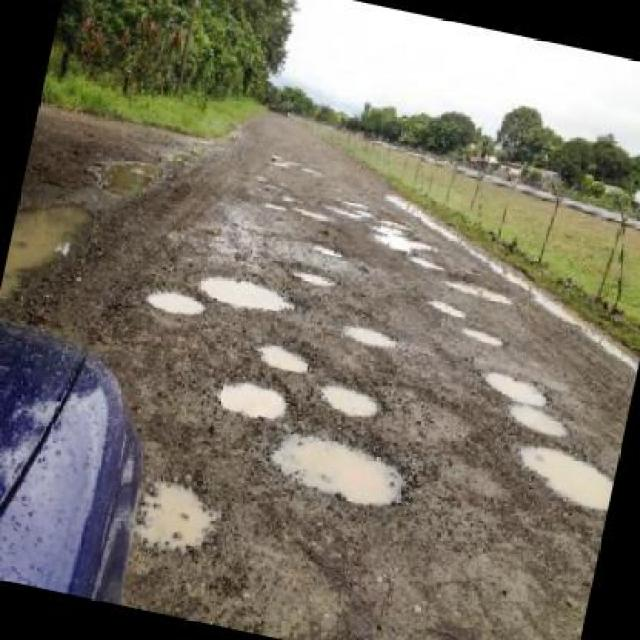pothole1: (264, 418, 418, 514), (128, 470, 225, 562), (508, 437, 617, 514), (197, 268, 303, 314), (214, 369, 294, 425), (478, 364, 554, 410), (316, 375, 382, 419), (252, 335, 316, 379), (507, 401, 575, 441), (144, 282, 210, 320), (444, 269, 516, 302), (371, 224, 438, 256), (342, 319, 400, 352), (283, 262, 342, 289), (424, 293, 470, 316), (462, 323, 507, 346), (406, 249, 449, 271), (309, 238, 348, 258)
